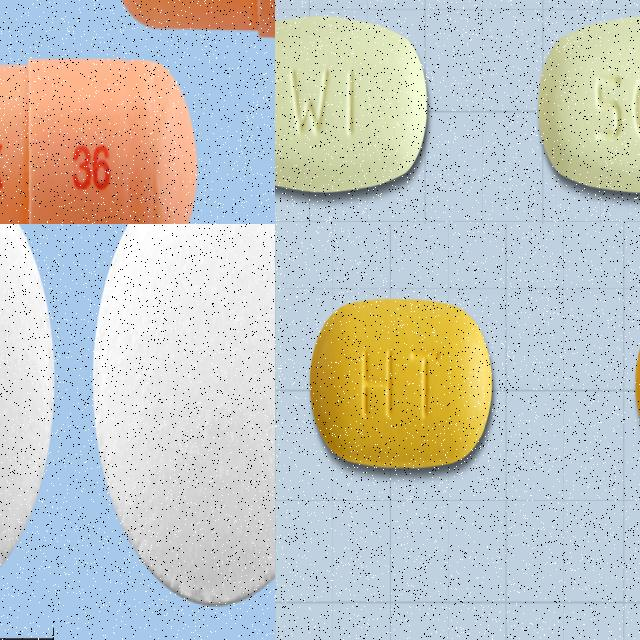Ausfixime Cap: (0, 53, 200, 224)
Besivo: (90, 224, 275, 610)
Clathrocin -500mg: (310, 299, 493, 471)
Clathron: (275, 14, 429, 193), (536, 11, 640, 198)
